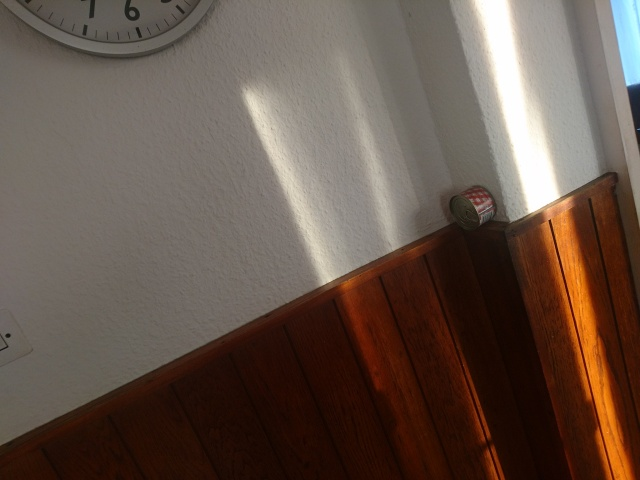Podravka Luncheon Meat 150g: (445, 182, 500, 233)
